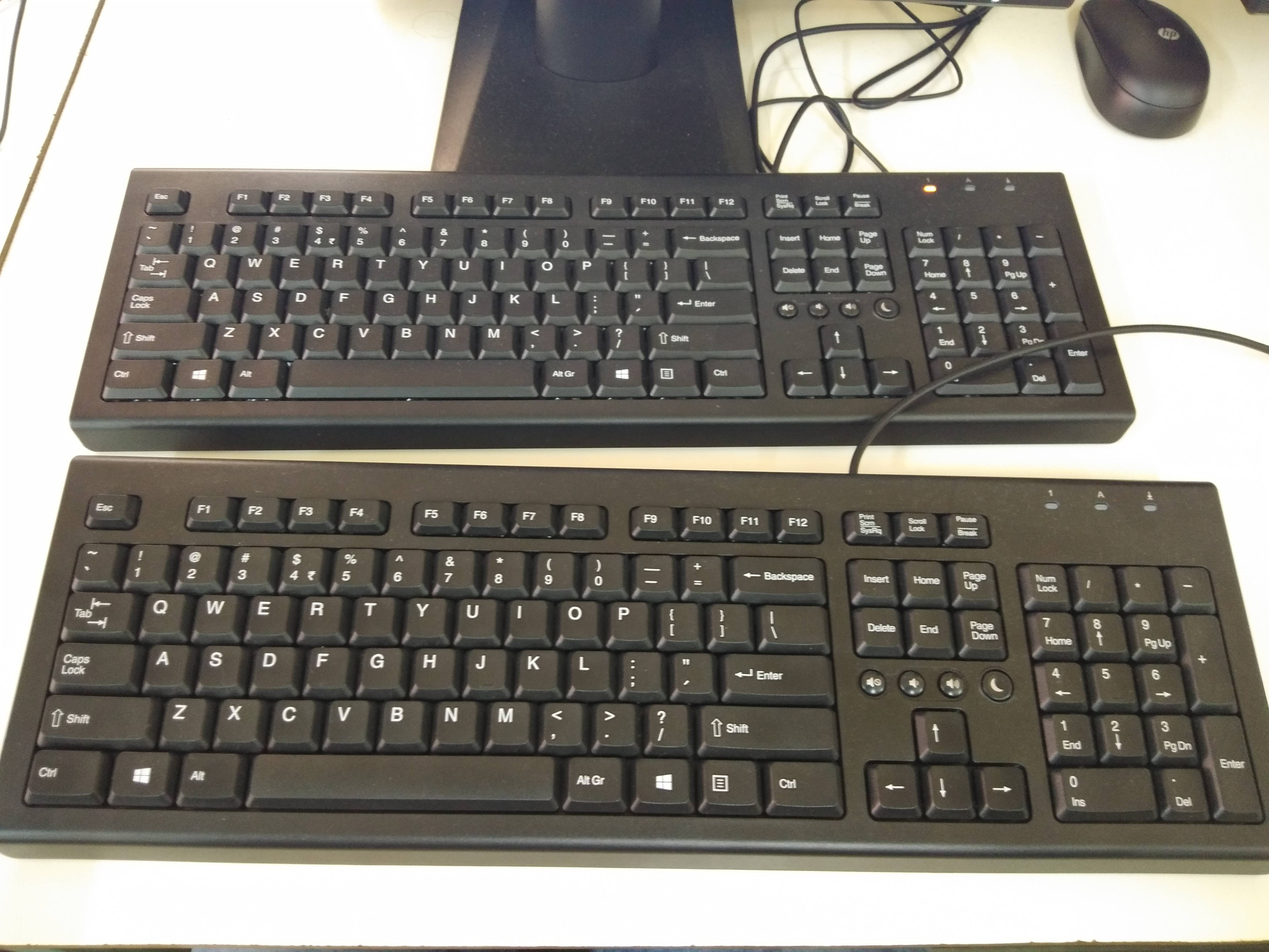Electronics: (2, 448, 1269, 885), (36, 140, 1168, 459)
